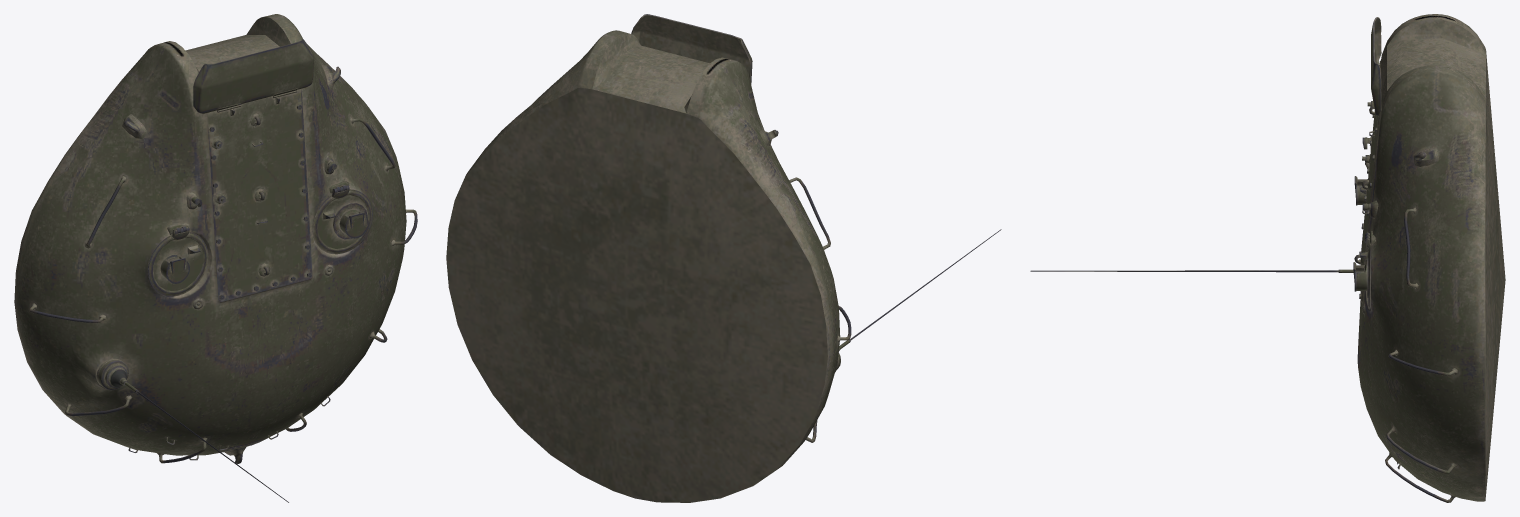
The model's file is Turret_01.glb.
The picture shows the model from 3 angles, left to right: view 1: azimuth 30°, elevation 25°; view 2: azimuth 150°, elevation 25°; view 3: azimuth 270°, elevation 25°; orthographic projection.
Parts seen in each view (by area): view 1: set_0_group_0; view 2: set_0_group_0; view 3: set_0_group_0.
Boxes of the visible parts, x1,y1,x2,y2 form: set_0_group_0: [14, 14, 417, 502]; set_0_group_0: [446, 14, 1001, 502]; set_0_group_0: [1030, 14, 1505, 502].
Bounding box in the file's own units: 2.69 × 2.88 × 2.82.
1 material, 1 textured.
